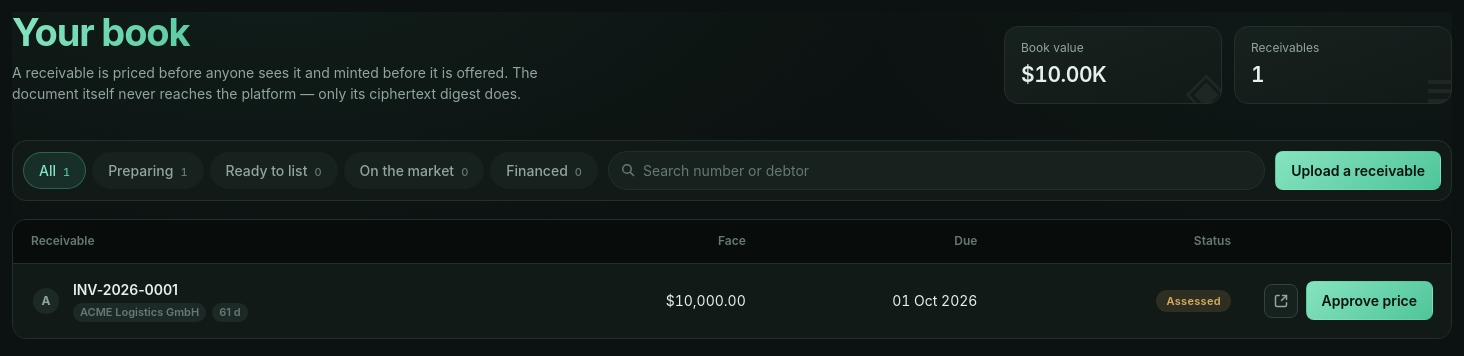
Test: the issuer's book › reloads after an action so the new status is the one on screen
This screenshot has width=1464, height=356.
Click the button "Approve price": (1369, 300) [1306,281,1433,320]
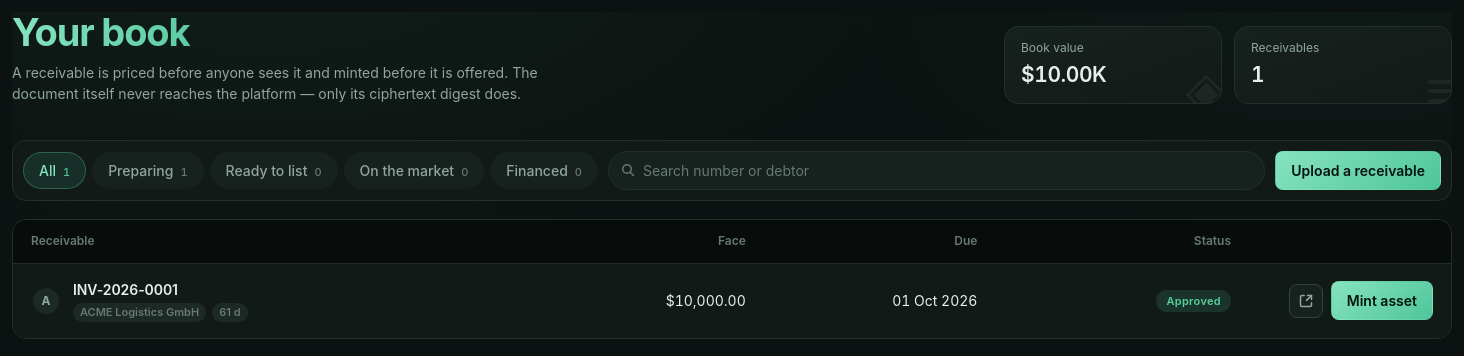
Check: the button "Mint asset" is shown, box [1331,281,1433,320]
